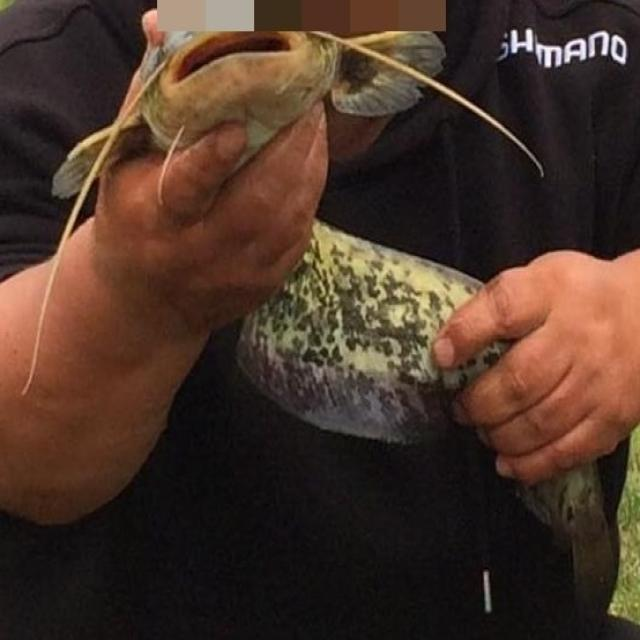Catfish: (27, 28, 618, 594)
